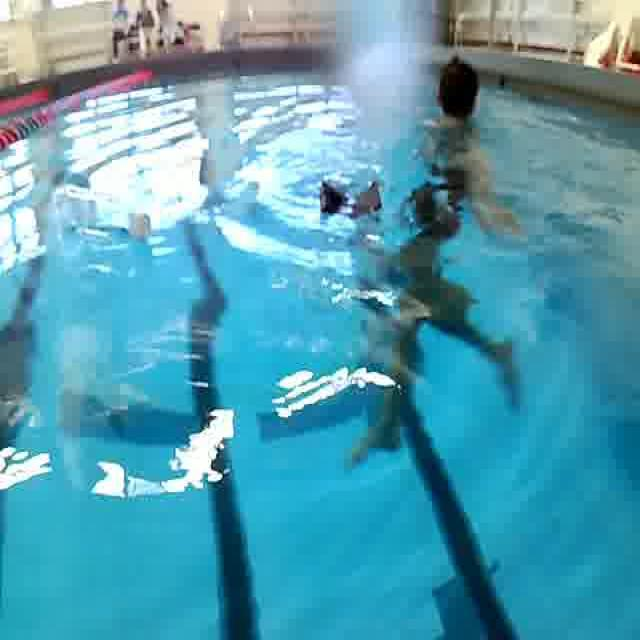CamMount: (317, 177, 384, 226)
